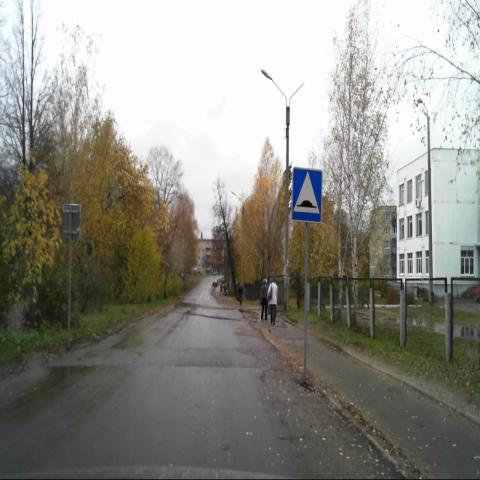5_20: (292, 167, 322, 223)
